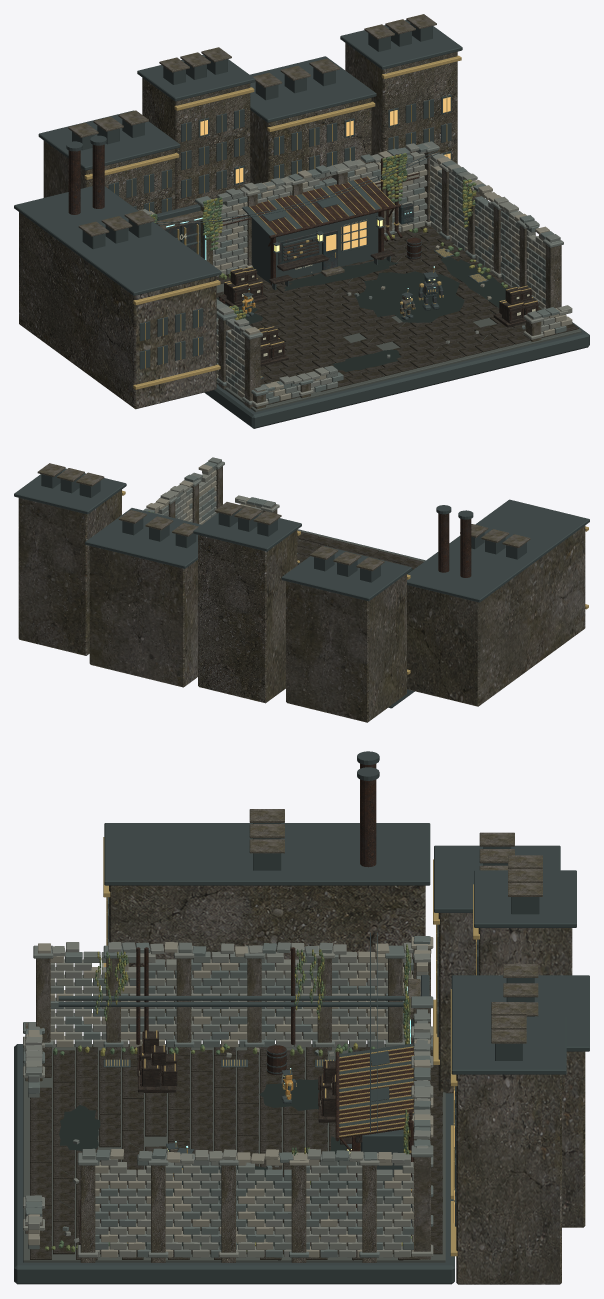
File: rain-court.glb
3 renders of one model, top to bottom at view 1: azimuth 30°, elevation 25°; view 2: azimuth 150°, elevation 25°; view 3: azimuth 270°, elevation 25°, orthographic. The views are drawn at different scales.
Parts seen in each view (by area): view 1: Foundry block 4, Foundry roof overhang.004, Foundry block 3, Foundry block 1, Foundation | exposed diorama plinth, Foundry block 2, Foundry block 0, Foundry roof overhang.002, Pool around companion, Kiosk shell, Foundry roof overhang, Subgrade | mortar (+13 smaller); view 2: Foundry block 4, Foundry block 0, Foundry block 1, Foundry block 2, Foundry block 3, Foundry roof overhang.004, Foundry roof overhang.002, Foundry roof overhang, Foundry roof overhang.003, Foundry roof overhang.001, Boiler exhaust chimney.001, Boiler exhaust chimney; view 3: Foundry block 3, Foundry block 4, Foundry roof overhang.004, Foundation | exposed diorama plinth, Subgrade | mortar, Foundry roof overhang.003, Foundry roof overhang.002, Foundry roof overhang.001, Foundry block 2, Foundry block 1, Foundry block 0, Foundry roof overhang (+18 smaller).
Part boxes in pixels (x1,y1,x2,y2): Foundry block 4: (19, 212, 216, 409); Foundry roof overhang.004: (14, 186, 221, 295); Foundry block 3: (345, 43, 457, 163); Foundry block 1: (142, 78, 250, 209); Foundation | exposed diorama plinth: (204, 322, 589, 428); Foundry block 2: (250, 97, 371, 183); Foundry block 0: (43, 140, 175, 213); Foundry roof overhang.002: (250, 56, 376, 122); Pool around companion: (356, 271, 464, 322); Kiosk shell: (251, 212, 378, 283); Foundry roof overhang: (38, 110, 180, 170); Subgrade | mortar: (216, 231, 581, 412); Foundry block 4: (407, 525, 585, 706); Foundry block 0: (286, 574, 406, 722); Foundry block 1: (198, 530, 297, 703); Foundry block 2: (89, 546, 197, 687); Foundry block 3: (18, 490, 121, 655); Foundry roof overhang.004: (407, 499, 589, 602); Foundry roof overhang.002: (85, 508, 201, 568); Foundry roof overhang: (281, 546, 411, 601); Foundry roof overhang.003: (14, 468, 126, 514); Foundry roof overhang.001: (193, 508, 301, 551); Boiler exhaust chimney.001: (438, 513, 449, 572); Boiler exhaust chimney: (460, 519, 471, 577); Foundry block 3: (456, 1074, 561, 1284); Foundry block 4: (109, 885, 425, 1040); Foundry roof overhang.004: (104, 823, 430, 885); Foundation | exposed diorama plinth: (14, 1044, 454, 1284); Subgrade | mortar: (23, 1044, 445, 1262); Foundry roof overhang.003: (451, 1017, 566, 1074); Foundry roof overhang.002: (451, 975, 589, 1051); Foundry roof overhang.001: (474, 870, 576, 927); Foundry block 2: (562, 1051, 585, 1227); Foundry block 1: (478, 928, 572, 975); Foundry block 0: (438, 913, 475, 1093); Foundry roof overhang: (434, 845, 560, 912).
Bounding box in the file's own units: 30.55 × 12.88 × 24.55.
Materials: 22 (5 with a texture image).
